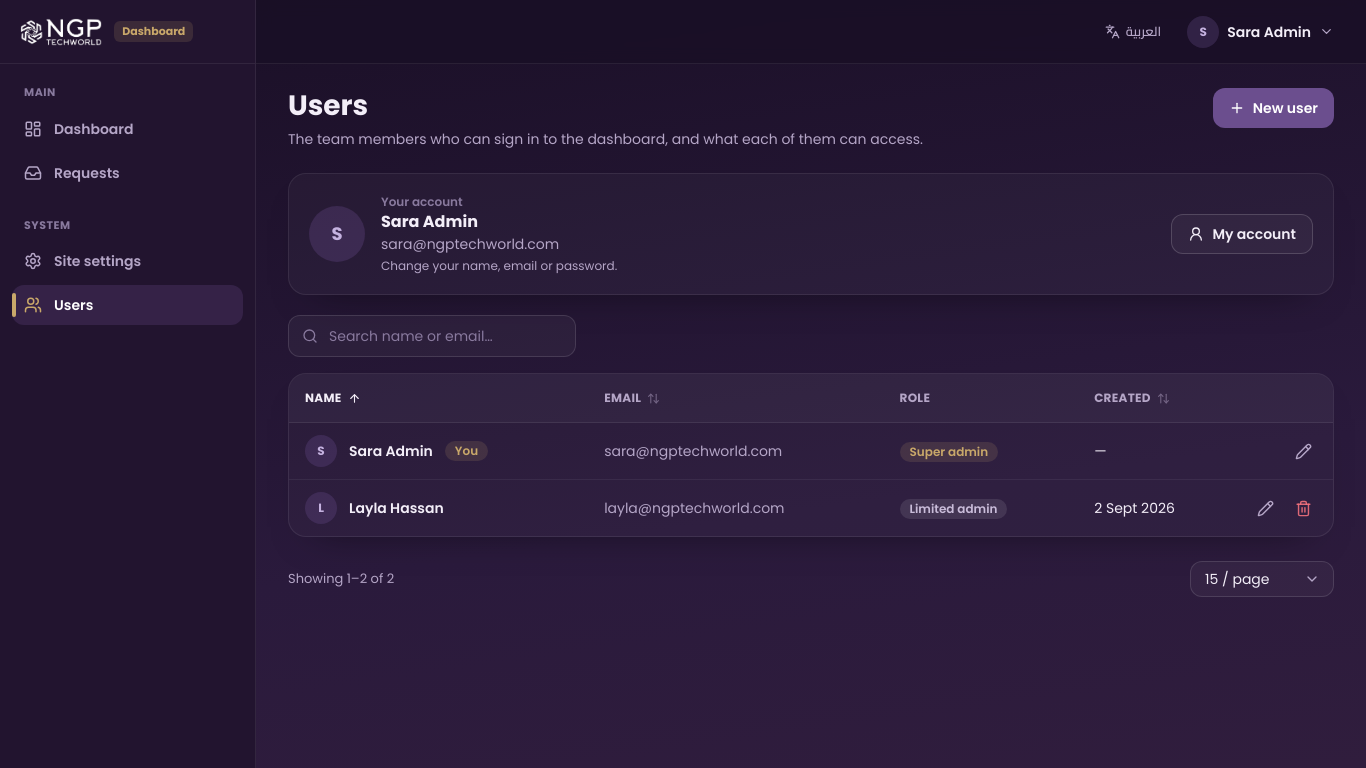
dashboard, requests, settings and users inside the app shell › the user routes exist: list, new, edit
This screenshot has width=1366, height=768.
Click the link "New user" at (1273, 108), box [1213,88,1334,128]
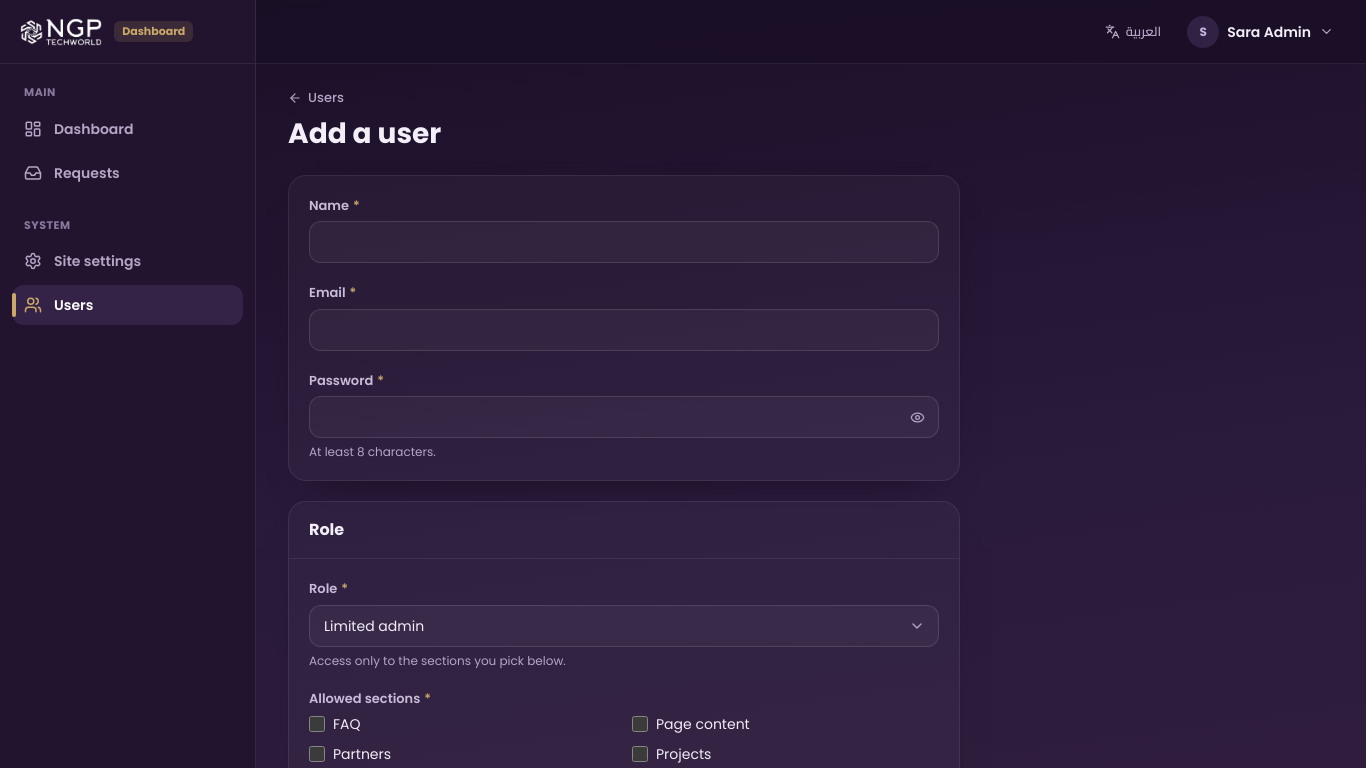
Result: the heading "Add a user" is shown at [288,116,441,151]
